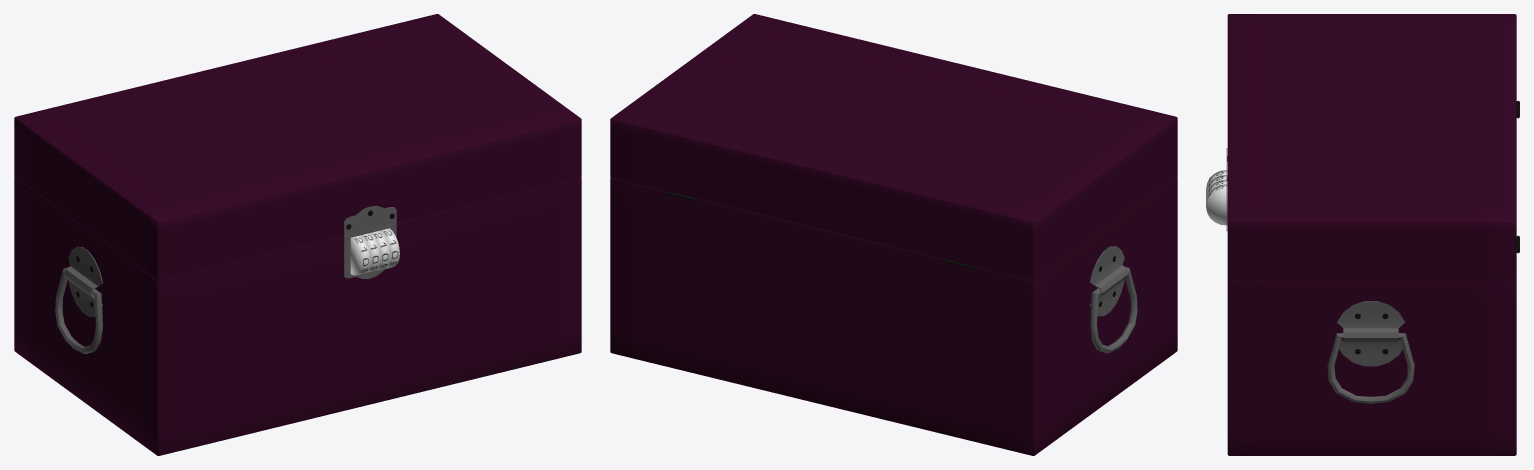
Rendered from Chest.fbx.
3 views of the same model, side by side, from view 1: azimuth 30°, elevation 25°; view 2: azimuth 150°, elevation 25°; view 3: azimuth 270°, elevation 25° (orthographic).
Visible parts, largest first — view 1: LowerChest, UpperChest, Lock1; view 2: LowerChest, UpperChest; view 3: UpperChest, LowerChest, Lock4.
Part boxes in pixels (box(x1,y1,x2,y2)): LowerChest: box(14, 176, 581, 455); UpperChest: box(14, 14, 581, 280); Lock1: box(350, 235, 370, 275); LowerChest: box(610, 176, 1177, 455); UpperChest: box(610, 14, 1177, 280); UpperChest: box(1226, 14, 1516, 280); LowerChest: box(1226, 101, 1519, 455); Lock4: box(1206, 184, 1227, 225).
Size of the model in its own units: 183 by 91.24 by 110.
